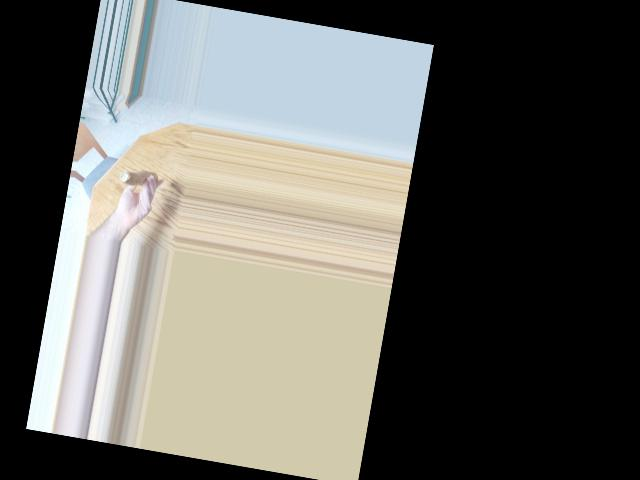sweet_potato: (124, 166, 159, 184)
